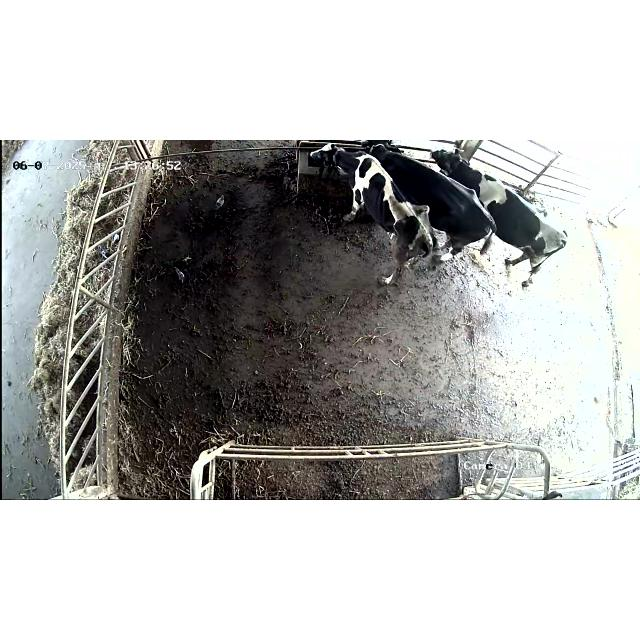drink: (298, 144, 364, 192), (364, 142, 406, 170)
stand: (431, 150, 568, 287)
